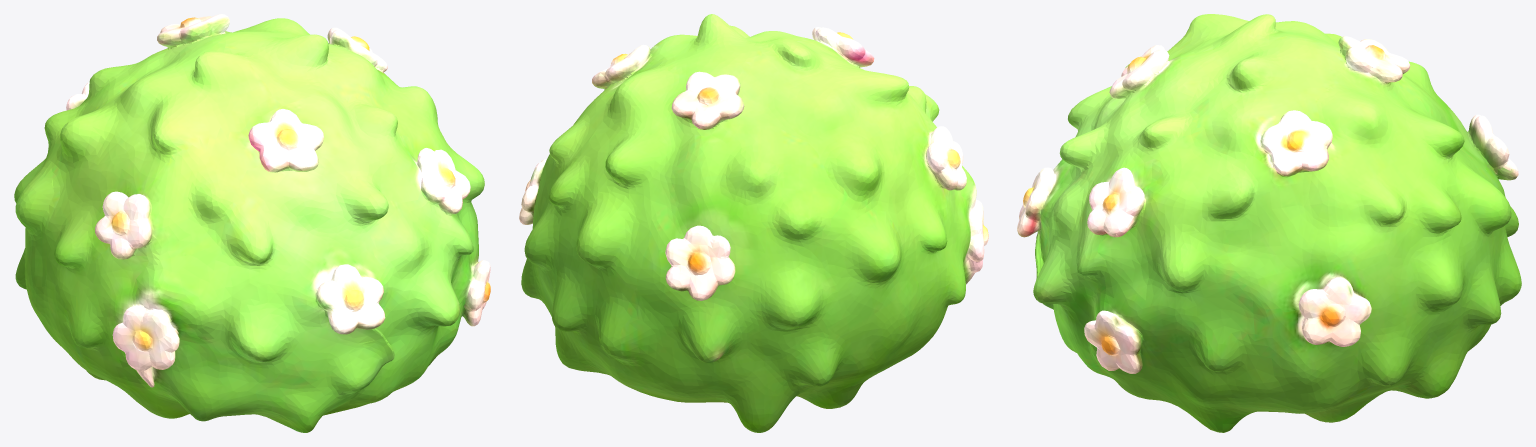
File: bush.glb
3 renders of one model, left to right at view 1: azimuth 30°, elevation 25°; view 2: azimuth 150°, elevation 25°; view 3: azimuth 270°, elevation 25°, orthographic. The views are drawn at different scales.
Parts seen in each view (by area): view 1: tripo_mesh_cafcc838-6b7c-45ab-82f7-036f70288962; view 2: tripo_mesh_cafcc838-6b7c-45ab-82f7-036f70288962; view 3: tripo_mesh_cafcc838-6b7c-45ab-82f7-036f70288962.
Boxes of the visible parts, x1,y1,x2,y2 form: tripo_mesh_cafcc838-6b7c-45ab-82f7-036f70288962: (14, 14, 490, 432); tripo_mesh_cafcc838-6b7c-45ab-82f7-036f70288962: (519, 14, 988, 432); tripo_mesh_cafcc838-6b7c-45ab-82f7-036f70288962: (1017, 14, 1521, 432).
Size of the model in its own units: 1.26 by 1 by 1.36.
1 material, 1 textured.
